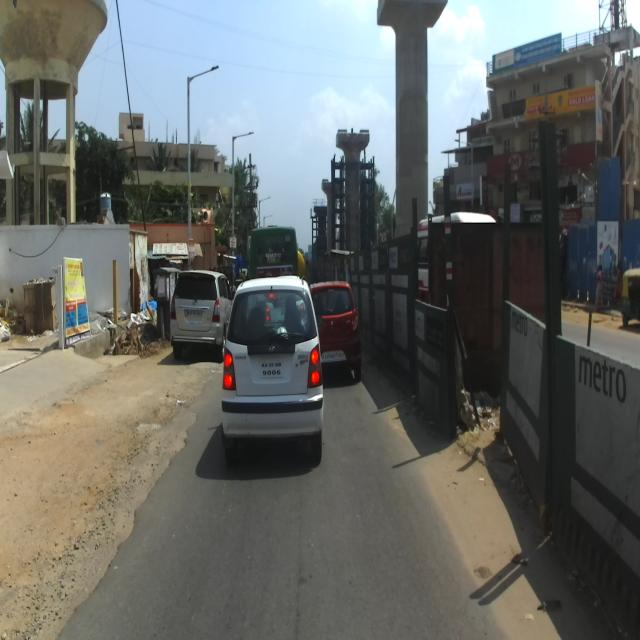car ahead at: (223, 279, 324, 457), (316, 275, 362, 385), (172, 269, 226, 348)
